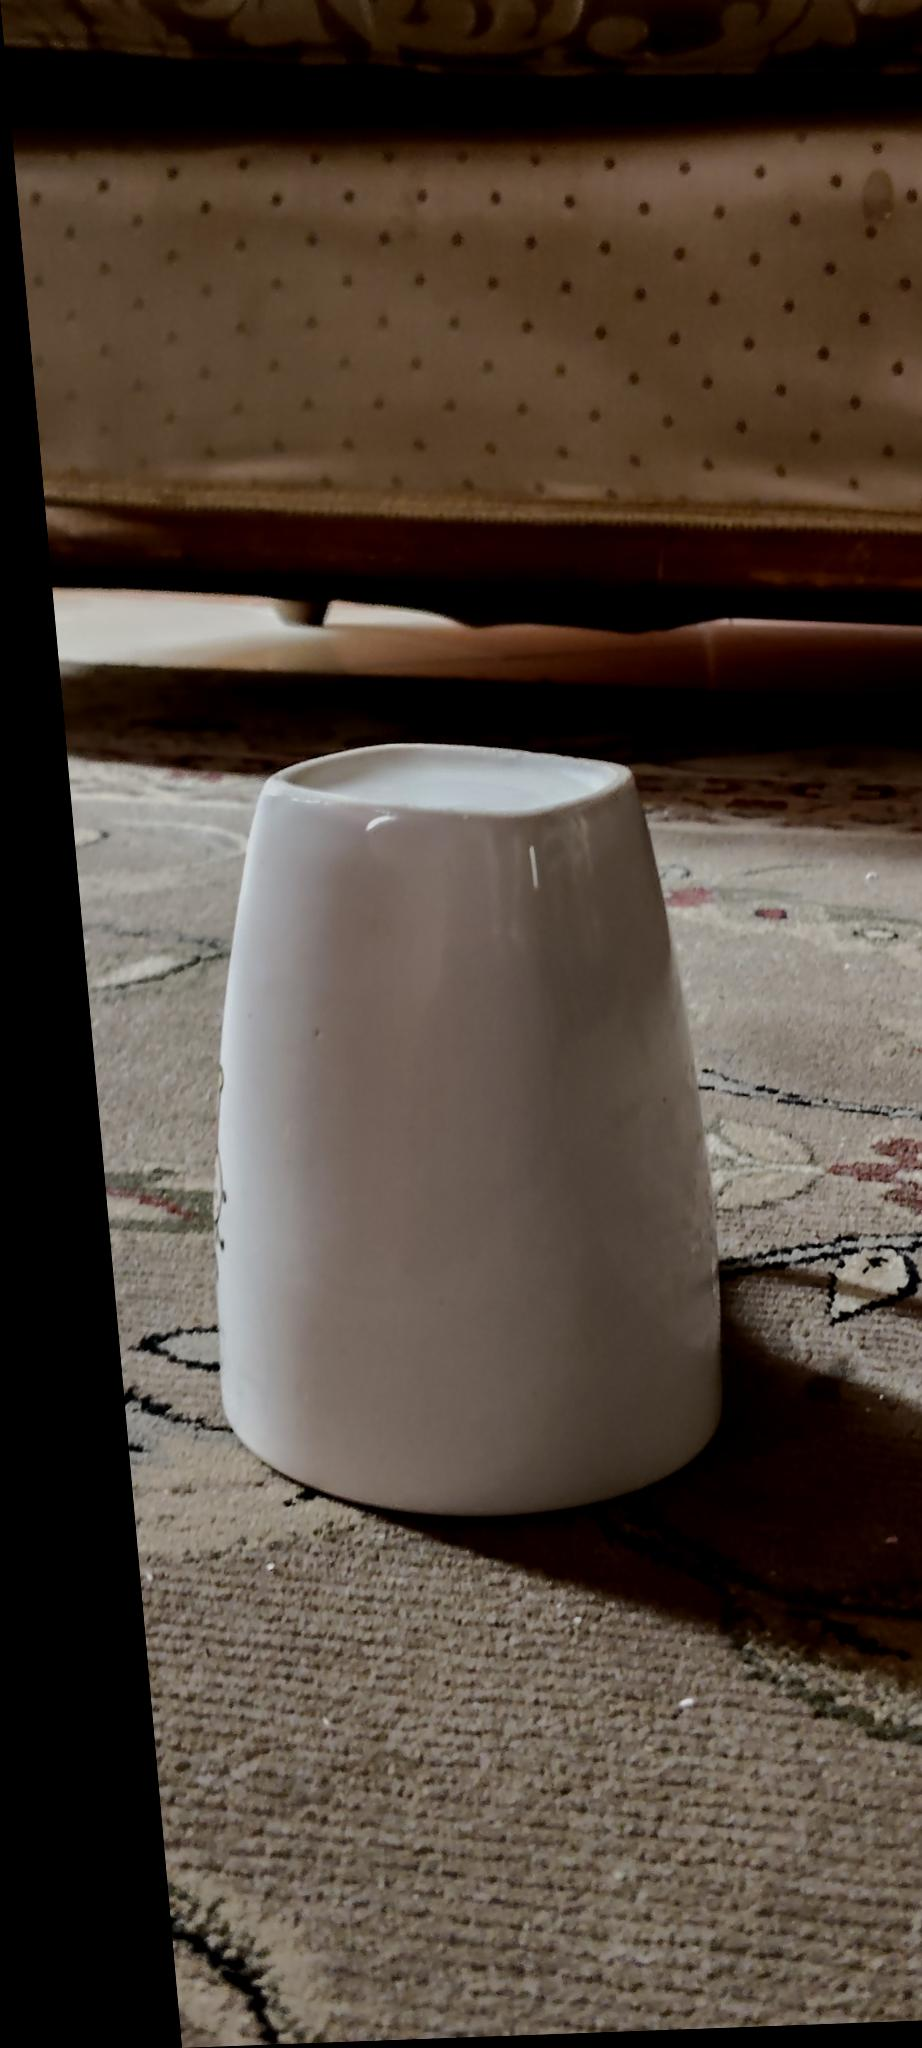Mug: (167, 726, 750, 1518)
